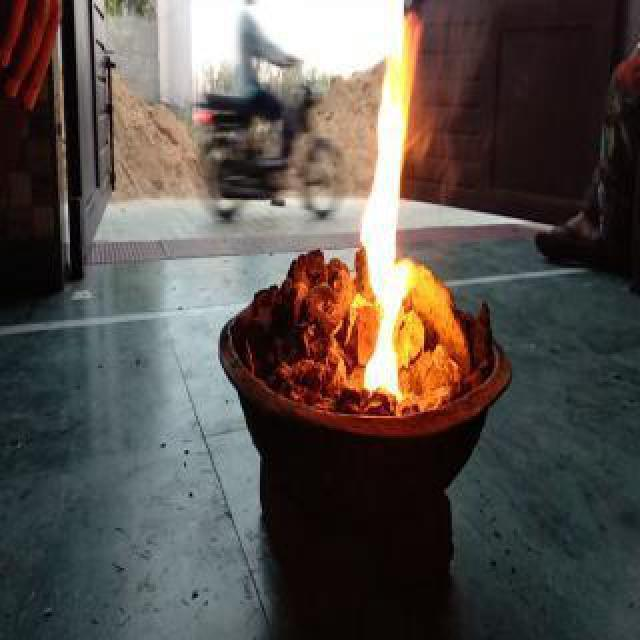Fire: (358, 4, 420, 402)
Smoke: (412, 2, 504, 222)
